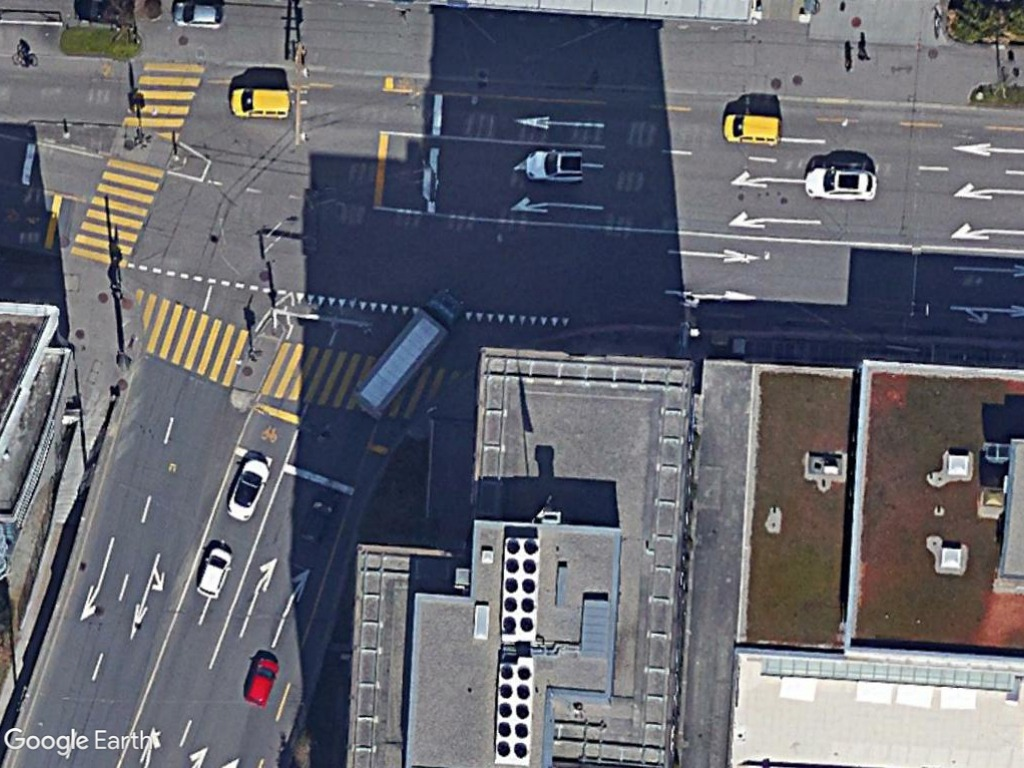car: (224, 458, 271, 524), (801, 166, 881, 202), (242, 656, 281, 710), (196, 545, 233, 600), (171, 0, 230, 31)
truck: (351, 291, 468, 419)
van: (720, 110, 784, 146)
